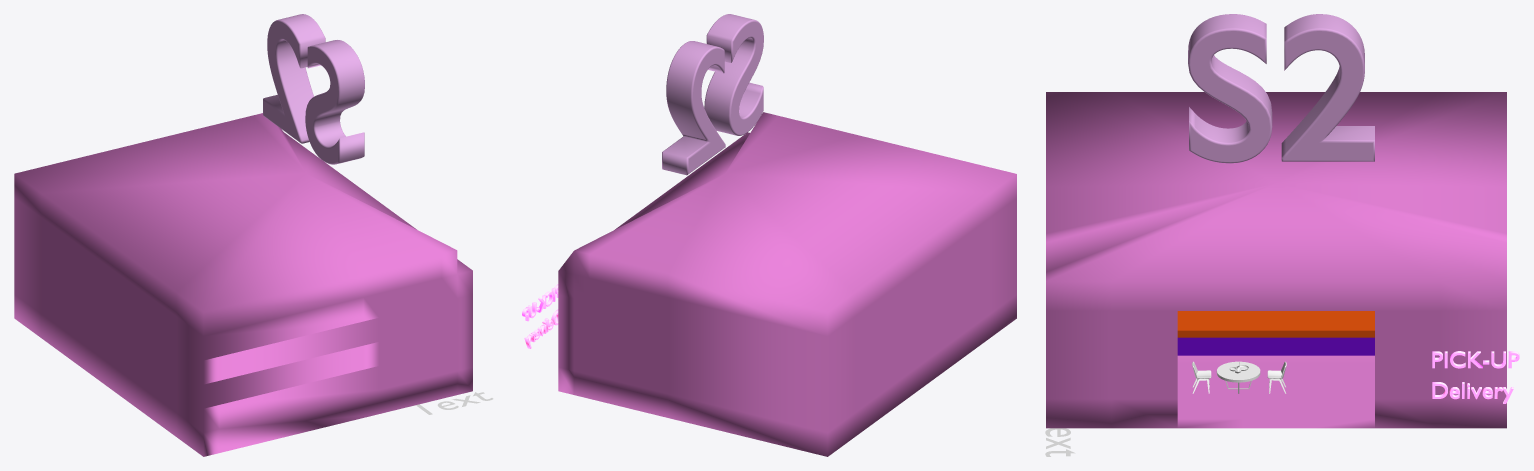
3 views of the same model, side by side, from view 1: azimuth 30°, elevation 25°; view 2: azimuth 150°, elevation 25°; view 3: azimuth 270°, elevation 25° (orthographic). The views are drawn at different scales.
Visible parts, largest first — view 1: Cube, Text; view 2: Cube, Text, Text.003; view 3: Cube, Text, Cube.001, Cube.002, Text.003, Text.004, Circle.
Part boxes in pixels (x1=…): Cube: x1=14, y1=113, x2=472, y2=456; Text: x1=263, y1=14, x2=364, y2=164; Cube: x1=558, y1=112, x2=1016, y2=456; Text: x1=662, y1=14, x2=763, y2=175; Text.003: x1=522, y1=284, x2=558, y2=321; Cube: x1=1046, y1=92, x2=1506, y2=428; Text: x1=1188, y1=14, x2=1374, y2=163; Cube.001: x1=1177, y1=311, x2=1374, y2=337; Cube.002: x1=1177, y1=337, x2=1374, y2=355; Text.003: x1=1432, y1=351, x2=1519, y2=368; Text.004: x1=1432, y1=382, x2=1513, y2=403; Circle: x1=1217, y1=361, x2=1260, y2=379.
Size of the model in its own units: 7.7 by 7.76 by 8.63.
